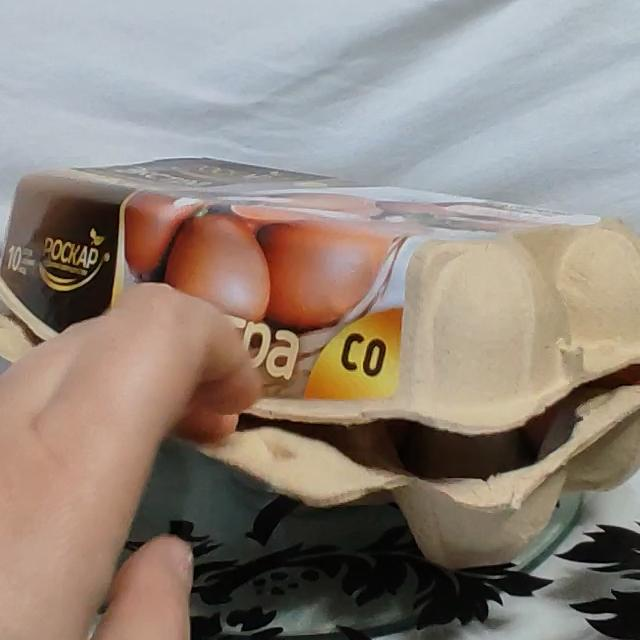egg: (0, 113, 640, 592)
